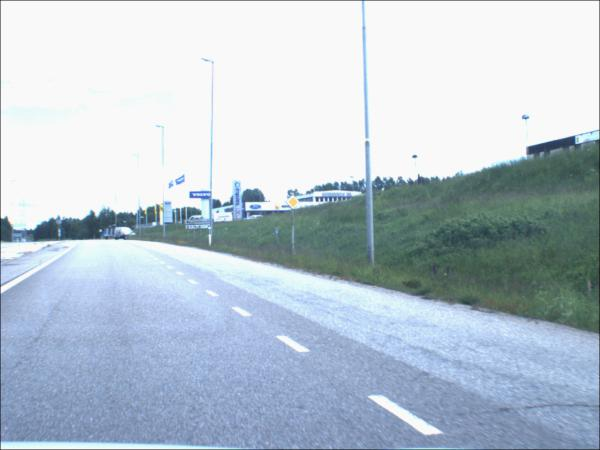PRIORITY_ROAD: (287, 195, 302, 211)
